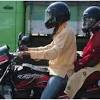with_helmet: (47, 1, 71, 14), (82, 5, 100, 16)
